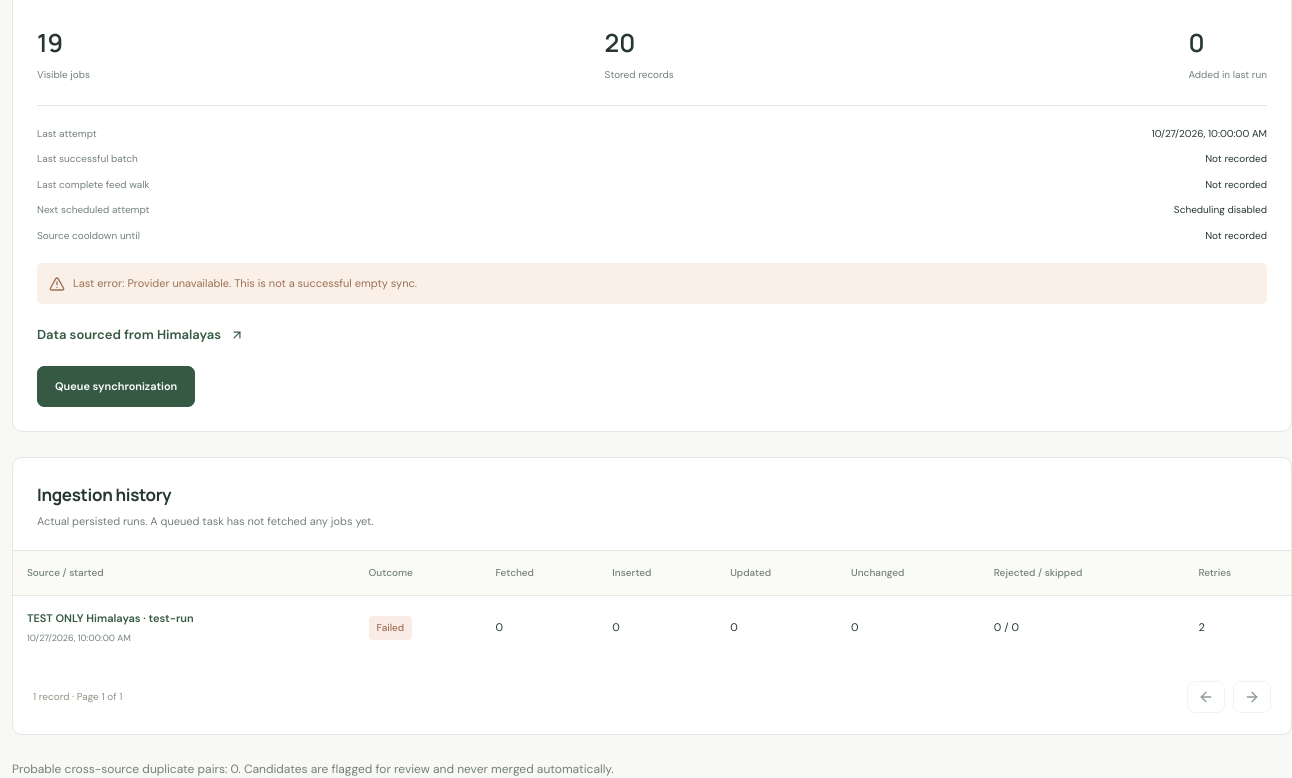
Scenario: queues an operator request without claiming that collection succeeded
The image size is (1292, 778).
(page scrolled)
Click the button "Queue synchronization".
click(116, 386)  # box [37,366,195,407]
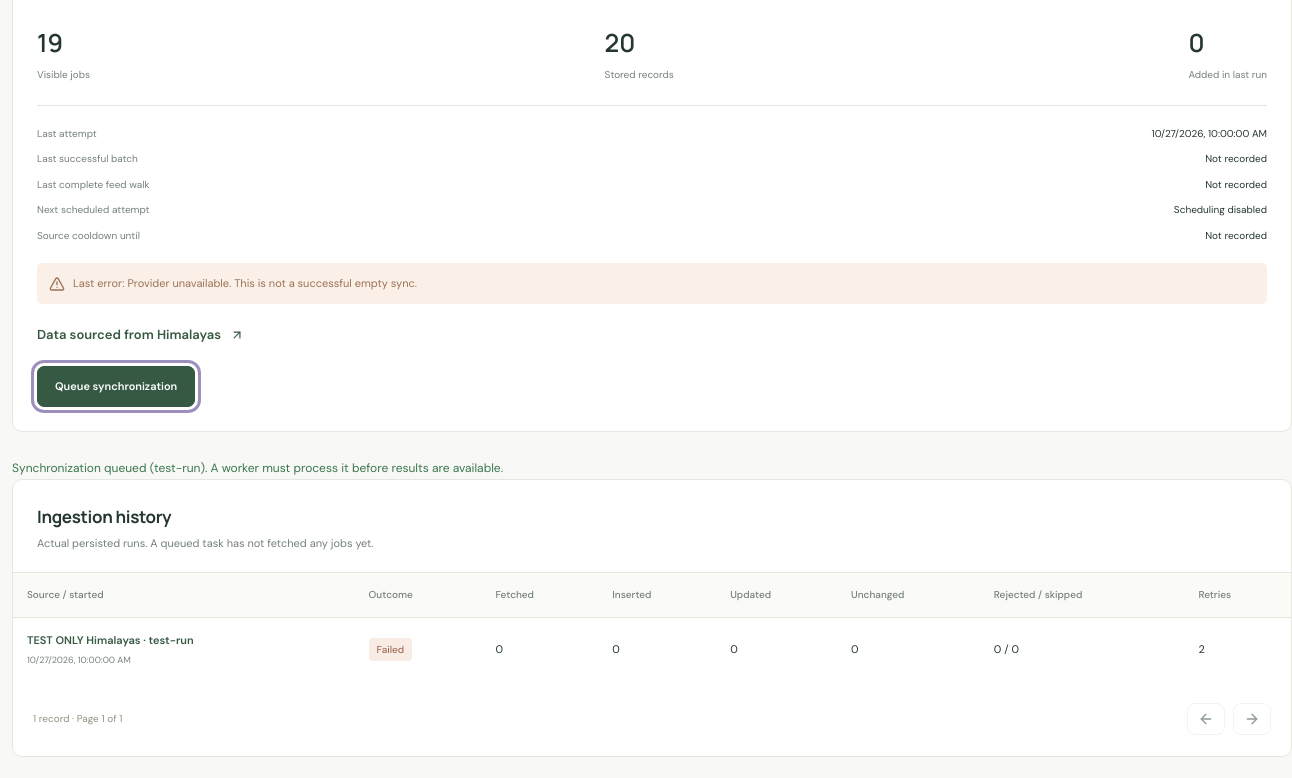
Result: the text "A worker must process it before results are available" is shown at [12,460,503,476]
